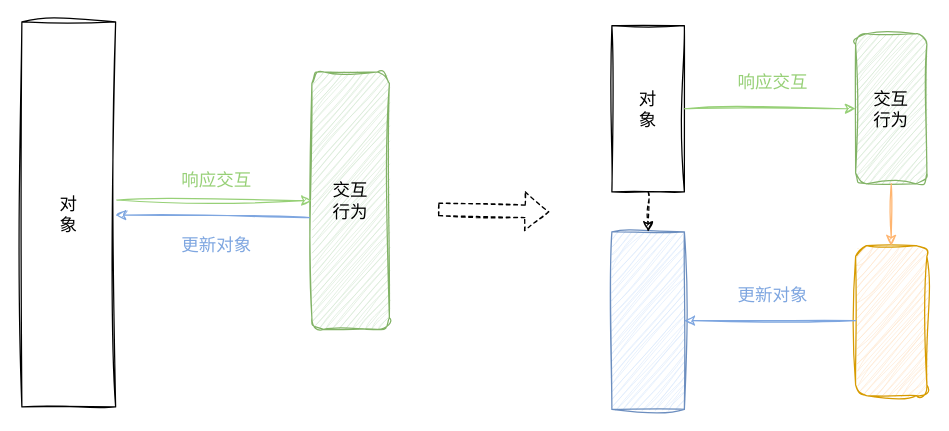
The diagram is 949 pixels wide and 431 high, and some of its shapes have lost their labels. The shapes that lost their labels are listed below. From the top down, each one's box as (x1, y1, x2, y2) in pixels, then its label:
(611, 231, 684, 409): 对 象 & 状 态 1
(854, 244, 927, 396): 应用 状态 1
